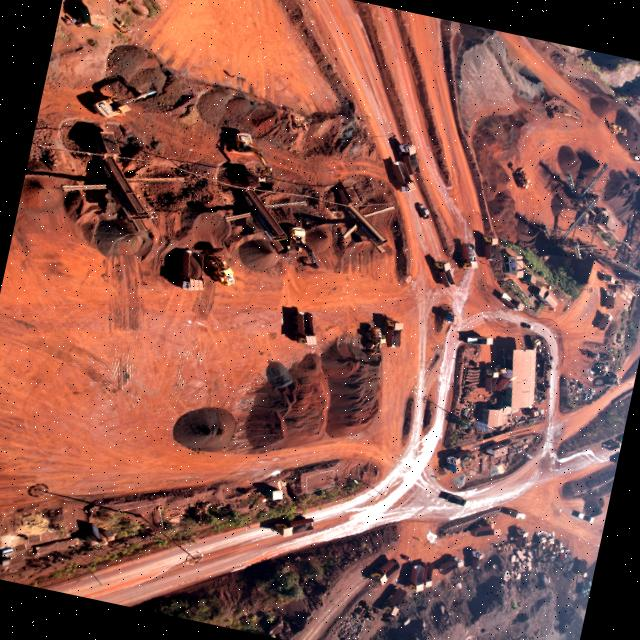Dumper truck: (280, 307, 320, 345), (274, 513, 314, 541), (176, 251, 204, 290), (385, 160, 415, 190), (384, 164, 416, 192), (404, 561, 431, 591), (404, 564, 432, 592), (406, 562, 432, 592), (368, 559, 396, 586), (452, 241, 479, 269), (391, 142, 418, 170), (429, 260, 456, 286), (392, 142, 418, 168), (382, 584, 403, 612), (438, 554, 461, 576), (474, 234, 495, 258), (382, 320, 402, 344), (494, 372, 513, 393), (502, 293, 524, 311), (493, 374, 512, 394), (510, 528, 530, 546), (594, 308, 611, 329), (442, 494, 467, 507), (479, 364, 499, 380), (475, 520, 495, 536), (597, 290, 614, 308), (465, 551, 482, 568), (511, 526, 528, 542), (476, 519, 494, 534), (464, 554, 480, 570), (416, 203, 432, 219), (600, 289, 614, 307), (446, 495, 467, 507), (464, 548, 482, 562), (597, 272, 617, 284), (504, 507, 523, 519), (465, 548, 481, 562), (484, 366, 500, 380), (572, 560, 586, 576), (506, 508, 524, 520), (574, 510, 592, 522), (416, 203, 430, 218), (603, 438, 620, 450), (572, 512, 589, 522), (576, 564, 588, 576), (629, 152, 640, 163), (632, 152, 640, 165), (611, 452, 619, 463)
Excavator: (84, 74, 156, 126), (218, 128, 280, 183), (282, 226, 327, 270), (594, 372, 618, 390), (286, 226, 306, 243), (592, 363, 608, 381), (577, 578, 592, 596)
car: (520, 323, 532, 329)
person: (431, 473, 441, 481), (409, 535, 420, 542), (228, 72, 238, 78), (122, 28, 130, 34)
